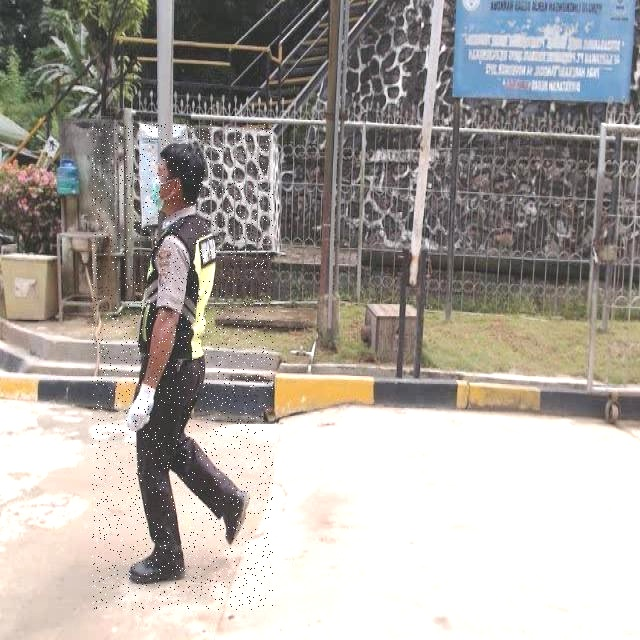boots: (452, 542, 512, 589), (389, 481, 422, 548)
gloves: (466, 369, 533, 456)
vest: (425, 212, 504, 368)
